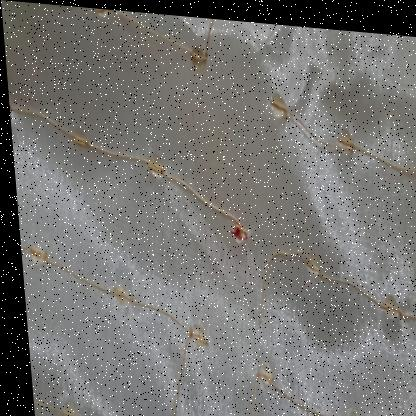spot: (185, 100, 197, 124)
